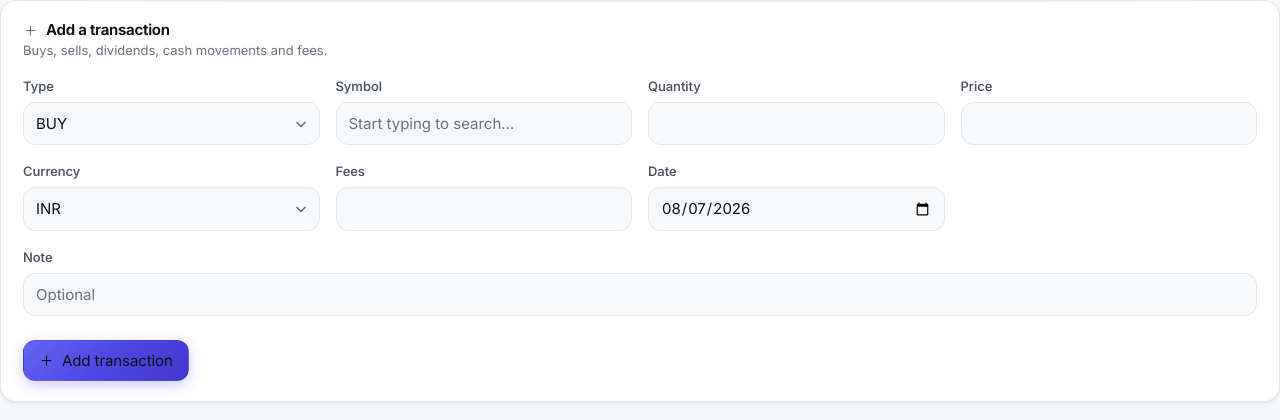
AddTransactionForm › fills the currency in from the instrument picked in the type-ahead
Expected: the dropdown labelled "Currency" shows "INR", [23,187,320,231]
Type "AAP" into the dropdown labelled "Symbol".
click(484, 124); type("AAP")  # box [336,102,632,145]
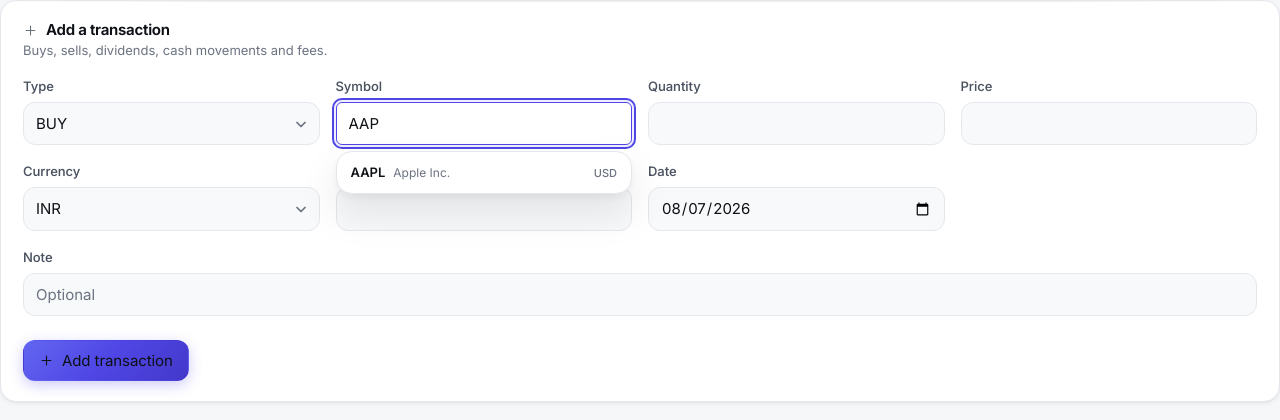
Click the button "AAPL Apple Inc. USD".
click(368, 172)  # box [340,156,627,189]
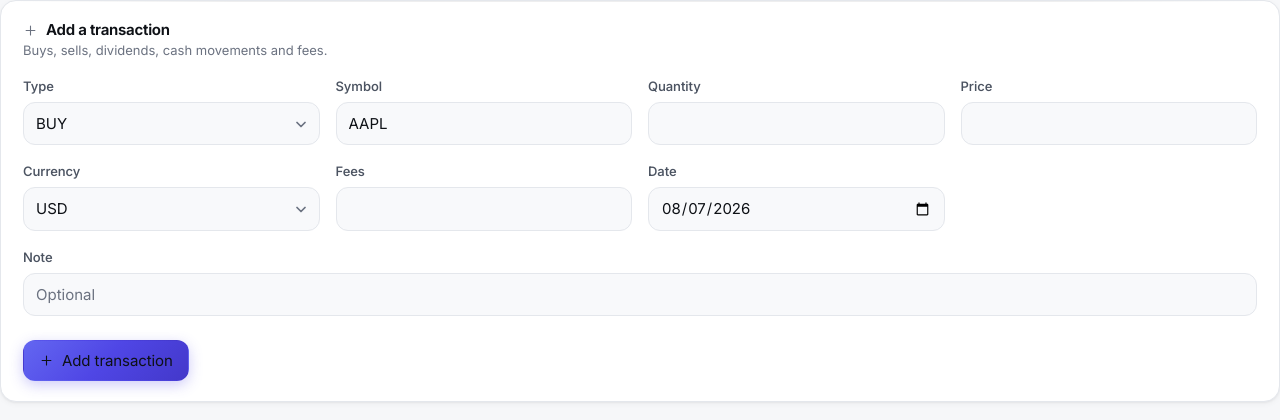
Expected: the dropdown labelled "Currency" shows "USD", [23,187,320,231]
Expected: the dropdown labelled "Symbol" holds "AAPL", [336,102,632,145]
